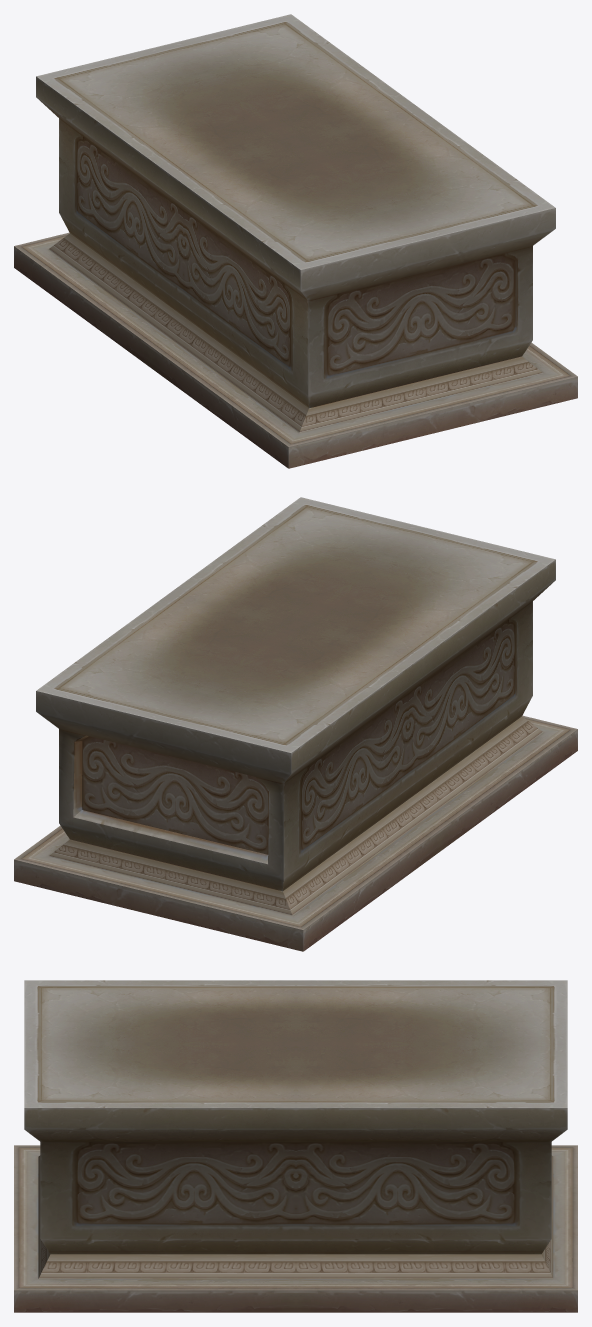
File: 2001_Item_qilin_02.FBX
3 views of the same model, one above another, from view 1: azimuth 30°, elevation 25°; view 2: azimuth 150°, elevation 25°; view 3: azimuth 270°, elevation 25° (orthographic). The views are drawn at different scales.
Visible parts, largest first — view 1: 2001_Item_qilin_02; view 2: 2001_Item_qilin_02; view 3: 2001_Item_qilin_02.
Boxes of the visible parts, box(x1,y1,x2,y2) form: 2001_Item_qilin_02: box(14, 14, 577, 468); 2001_Item_qilin_02: box(14, 497, 577, 951); 2001_Item_qilin_02: box(14, 980, 577, 1312).
Bounding box in the file's own units: 762 × 480 × 1253.
